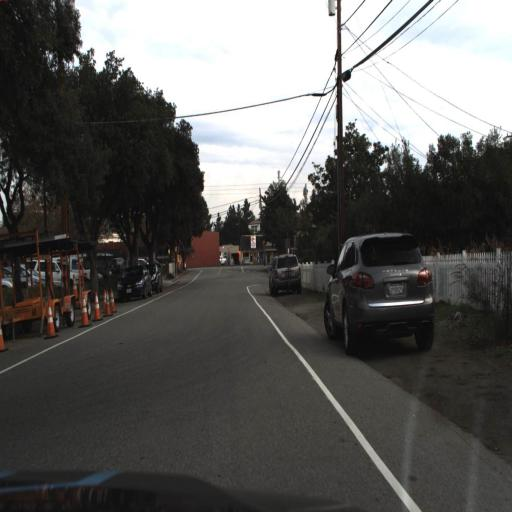car: (322, 228, 434, 357), (0, 261, 51, 298), (113, 260, 152, 303), (268, 249, 301, 297), (267, 254, 304, 296), (114, 261, 148, 303), (145, 259, 161, 295)
truck: (0, 237, 90, 332)
